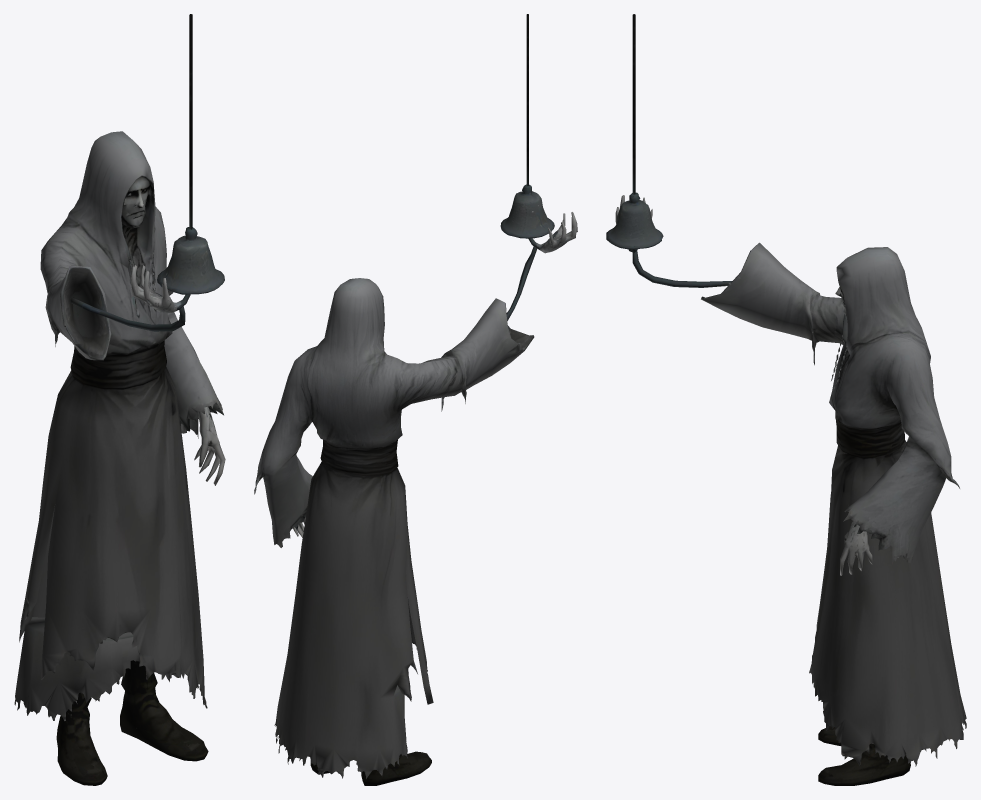
Rendered from selected.glb.
3 views of the same model, side by side, from view 1: azimuth 30°, elevation 25°; view 2: azimuth 150°, elevation 25°; view 3: azimuth 270°, elevation 25° (orthographic). The views are drawn at different scales.
Parts seen in each view (by area): view 1: tripo_node_242c4594-bb8c-4b25-9c55-9cc709116ab4; view 2: tripo_node_242c4594-bb8c-4b25-9c55-9cc709116ab4; view 3: tripo_node_242c4594-bb8c-4b25-9c55-9cc709116ab4.
Part boxes in pixels (<box>): tripo_node_242c4594-bb8c-4b25-9c55-9cc709116ab4: <box>14,14,225,785</box>; tripo_node_242c4594-bb8c-4b25-9c55-9cc709116ab4: <box>254,14,577,785</box>; tripo_node_242c4594-bb8c-4b25-9c55-9cc709116ab4: <box>606,14,966,785</box>.
Bounding box in the file's own units: 0.2793 × 0.998 × 0.4551.
1 material, 1 textured.
